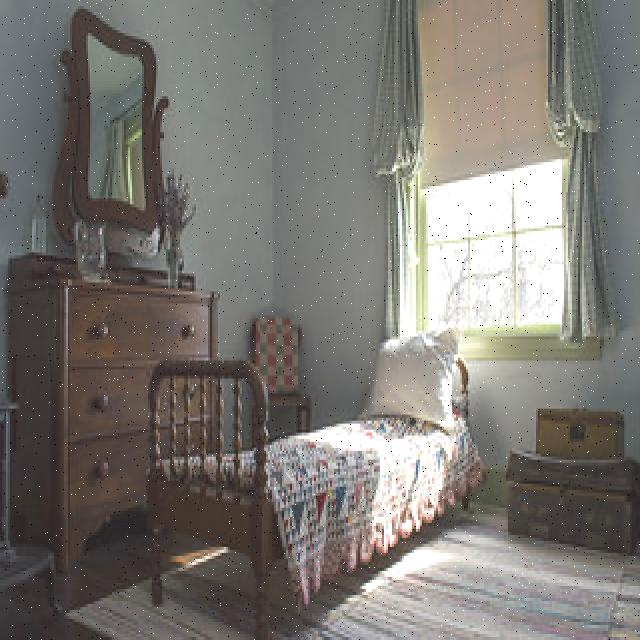bed: (145, 311, 483, 602)
